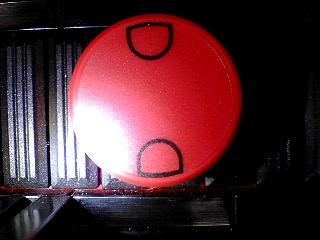MIPO2: (68, 13, 242, 187)
